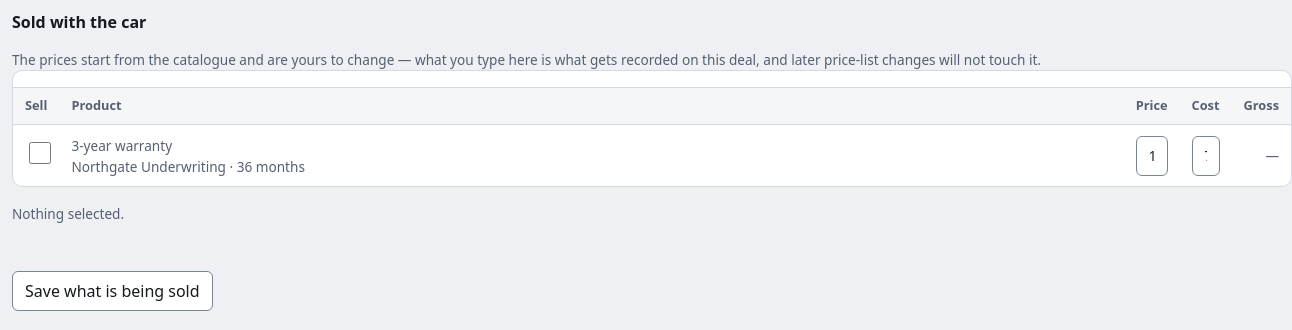
the finance menu › shows the server refusal rather than predicting it
Click the checkbox named "Sell 3-year warranty": (40, 153) [29, 133, 51, 173]
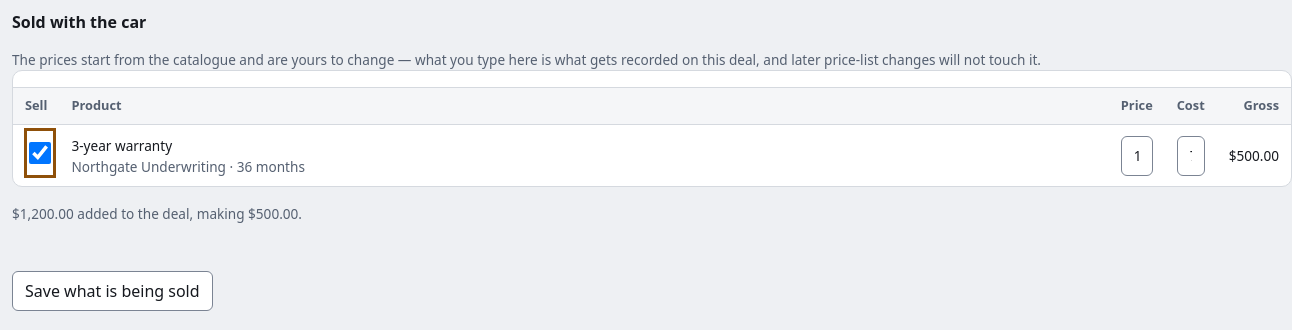
Click the button "Save what is being sold": (112, 291) [12, 271, 213, 311]
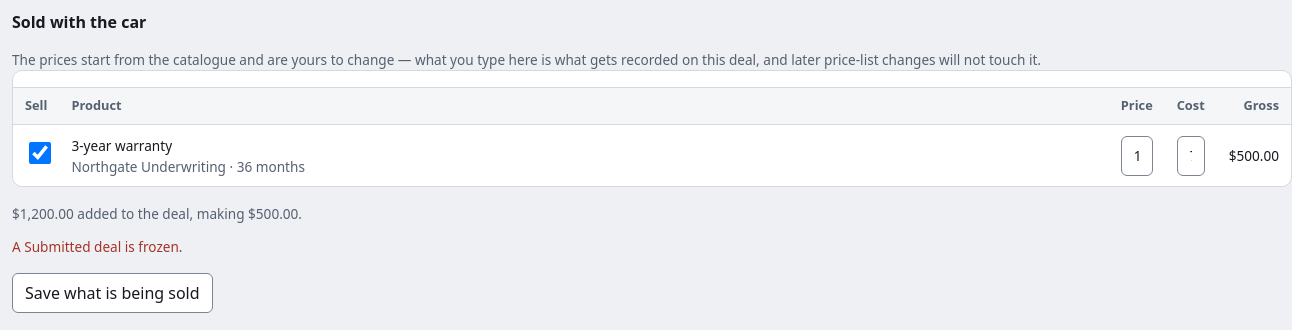
expect the text "A Submitted deal is frozen." is shown: met, box [12, 237, 182, 256]
